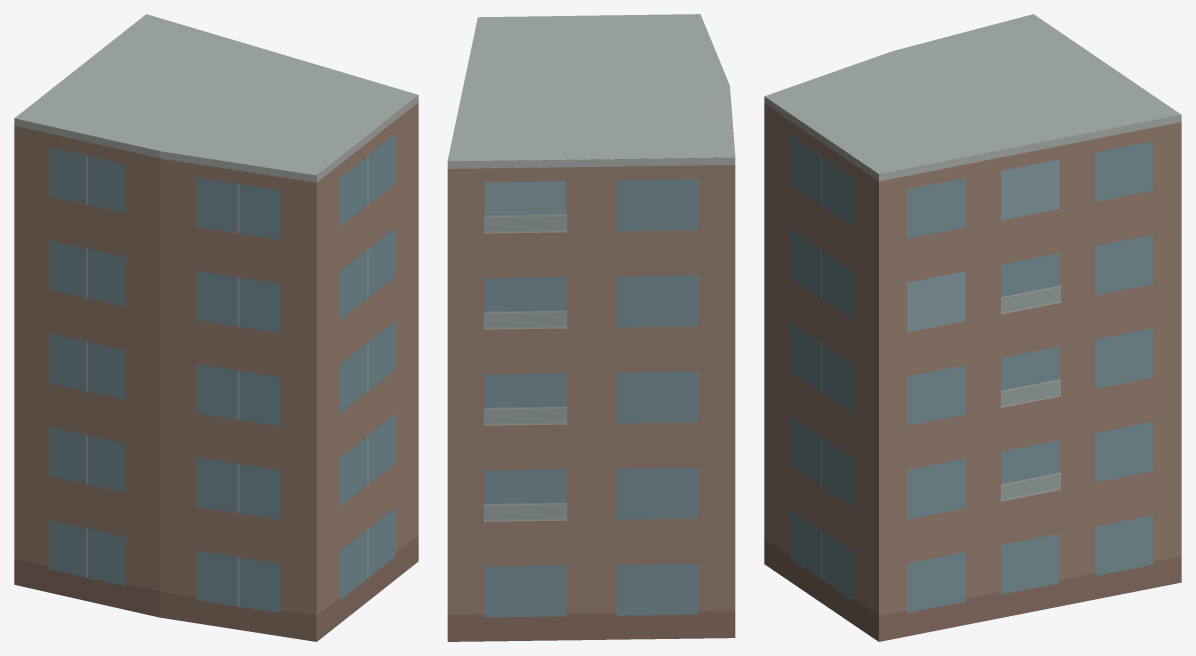
File: survey-upis-32984011.glb
3 views of the same model, side by side, from view 1: azimuth 30°, elevation 25°; view 2: azimuth 150°, elevation 25°; view 3: azimuth 270°, elevation 25° (orthographic). The views are drawn at different scales.
Parts seen in each view (by area): view 1: survey-upis-32984011.tmp; view 2: survey-upis-32984011.tmp; view 3: survey-upis-32984011.tmp.
Part boxes in pixels (x1=…): survey-upis-32984011.tmp: x1=14, y1=14, x2=418, y2=641; survey-upis-32984011.tmp: x1=447, y1=14, x2=735, y2=641; survey-upis-32984011.tmp: x1=764, y1=14, x2=1181, y2=641.
Size of the model in its own units: 11.46 by 15.6 by 12.62.
